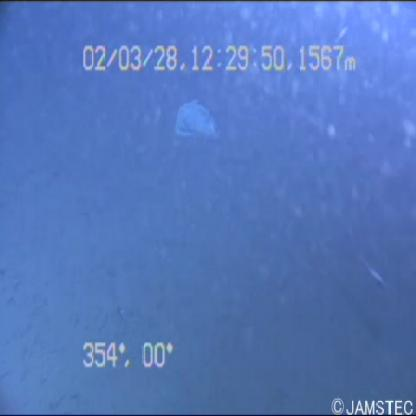Rác: (159, 99, 225, 141)
